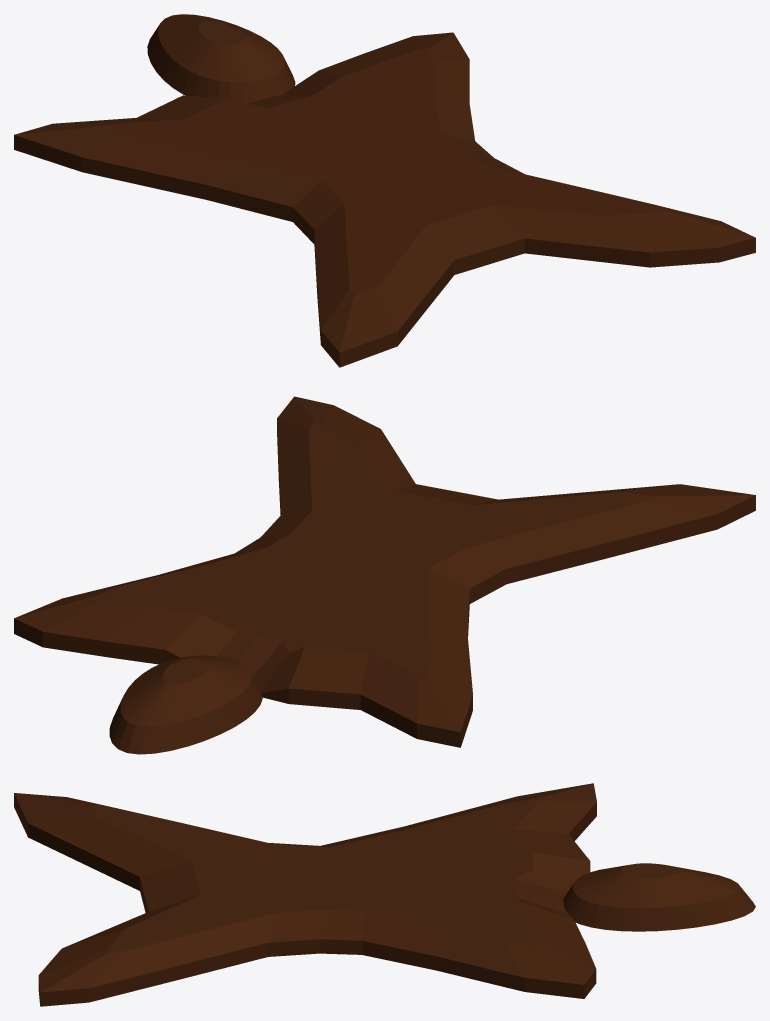
Rendered from ayimsipost.fbx.
3 views of the same model, one above another, from view 1: azimuth 30°, elevation 25°; view 2: azimuth 150°, elevation 25°; view 3: azimuth 270°, elevation 25° (orthographic). The views are drawn at different scales.
Visible parts, largest first — view 1: Circle.001; view 2: Circle.001; view 3: Circle.001.
Boxes of the visible parts, left/top/right/bottom form: Circle.001: left=14, top=14, right=755, bottom=367; Circle.001: left=14, top=396, right=755, bottom=754; Circle.001: left=14, top=783, right=755, bottom=1006.
Bounding box in the file's own units: 845 × 67.76 × 1265.
